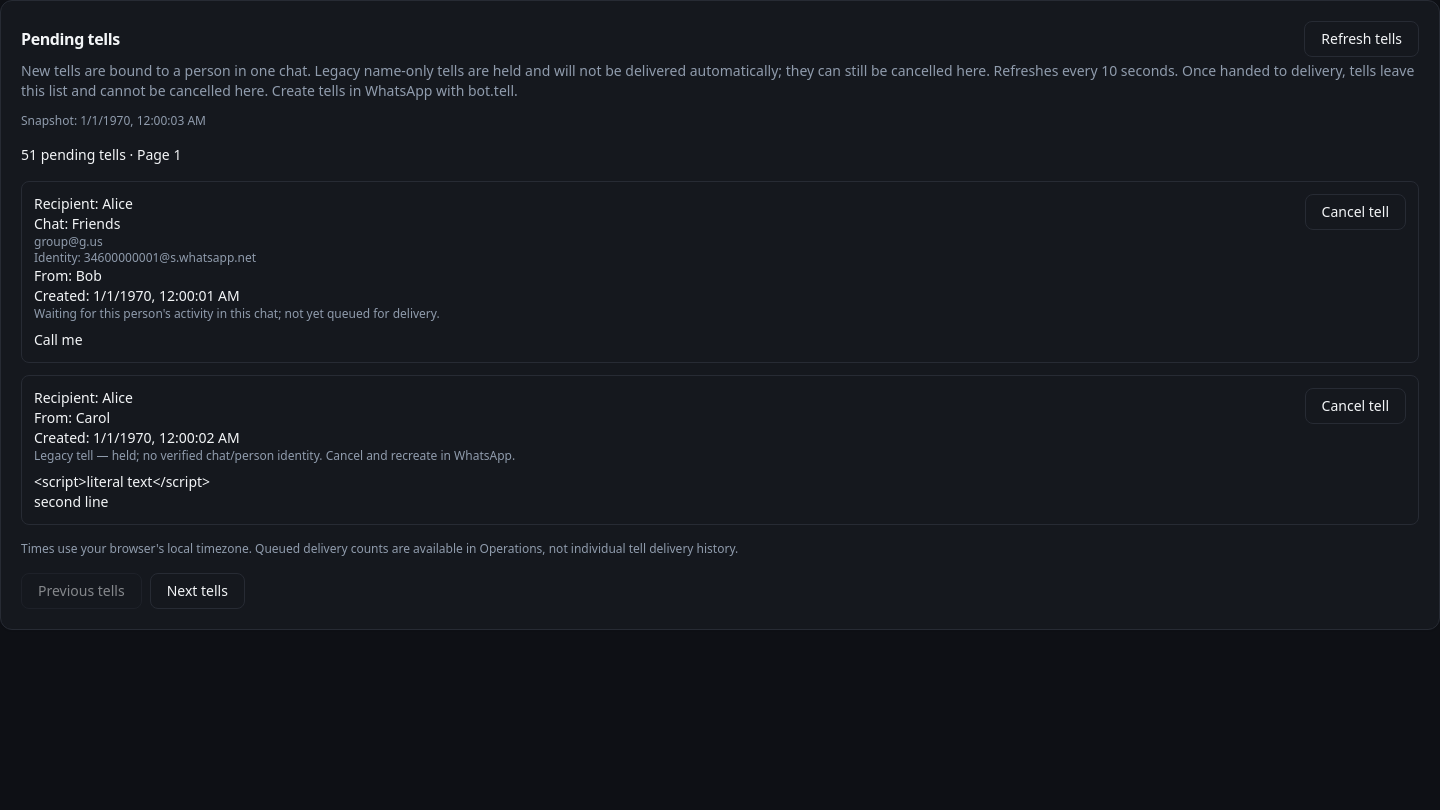
Test: pending tells › can return from a failed later page and does not mix reminder or tell caches
This screenshot has width=1440, height=810.
Expected: the text "Call me" is shown, [34,330,83,349]
Click the button "Next tells".
click(197, 591)  # box [150,573,245,609]
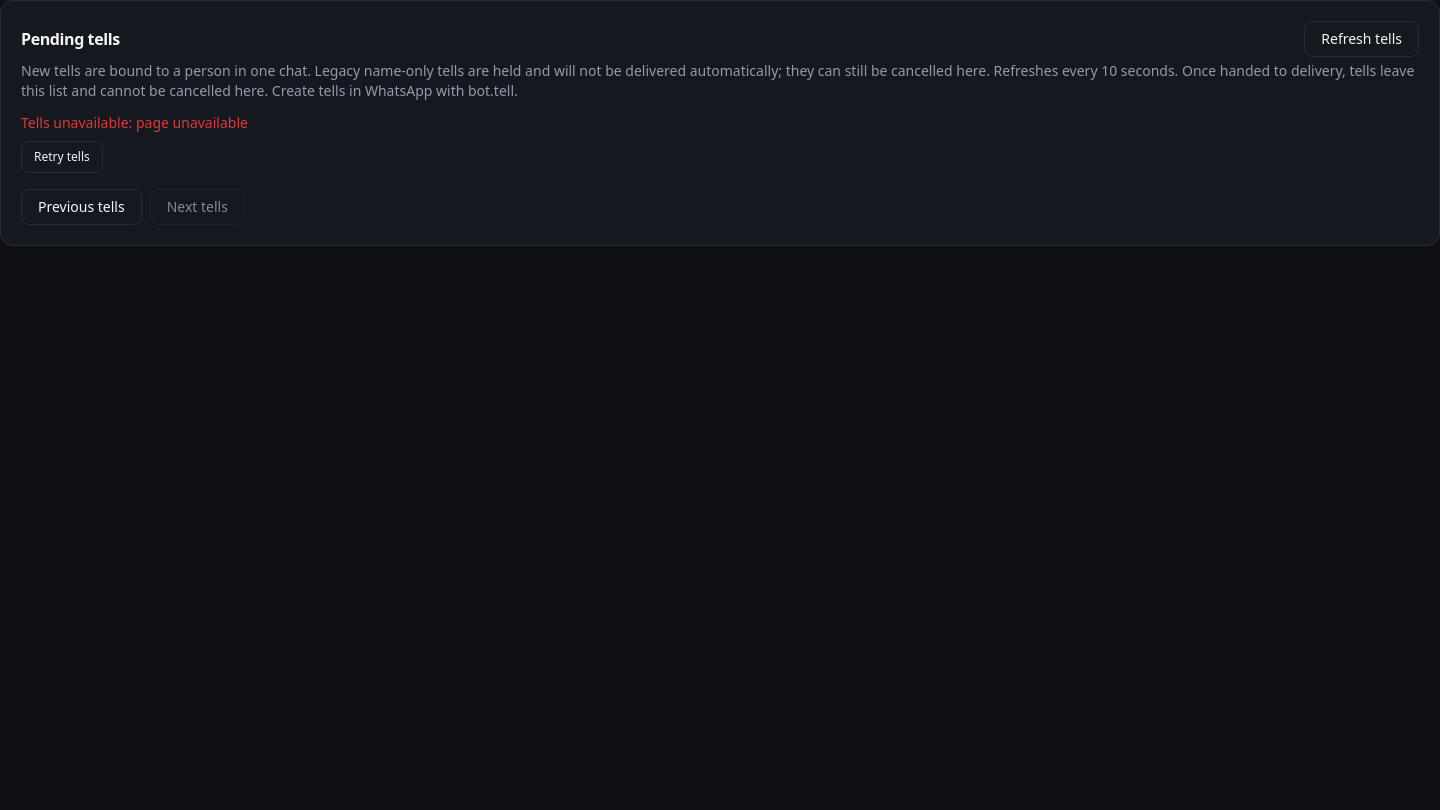
Expected: the message "Tells unavailable: page unavailable" is shown, [21,113,248,132]
Click the button "Previous tells".
click(81, 207)  # box [21,189,142,225]
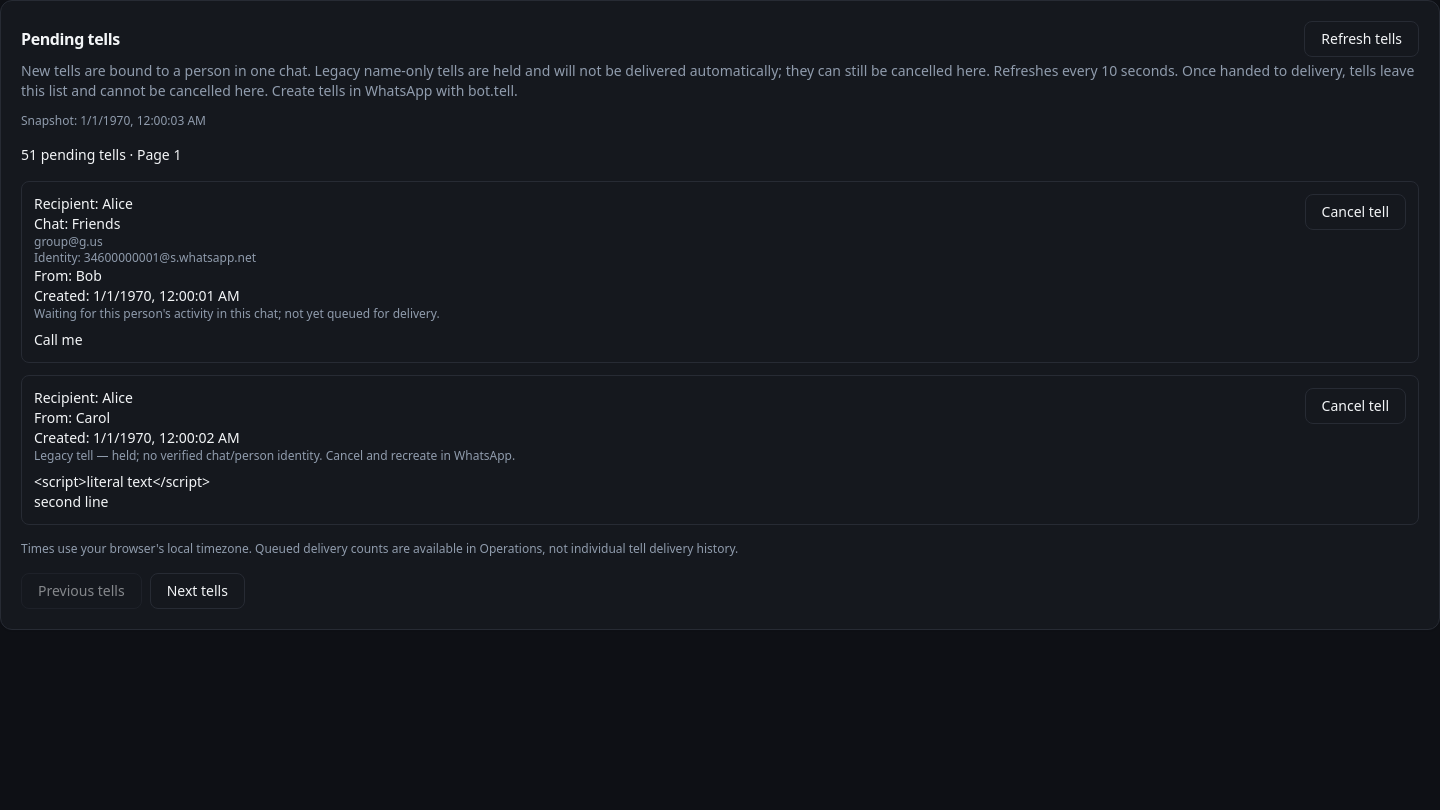
Expected: the text "Call me" is shown, [34,330,83,349]
